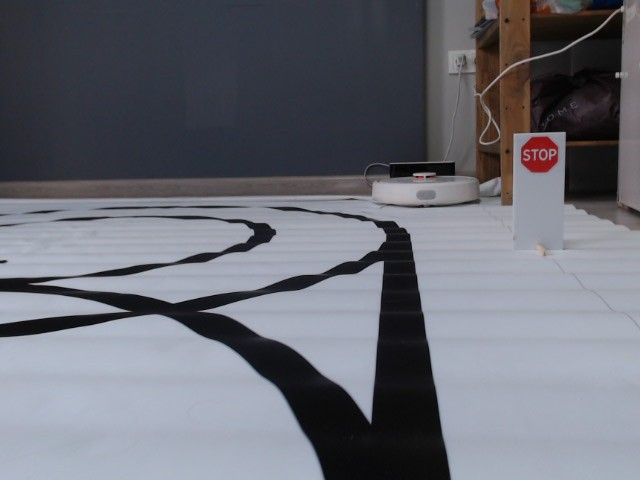Stop: (520, 135, 559, 174)
